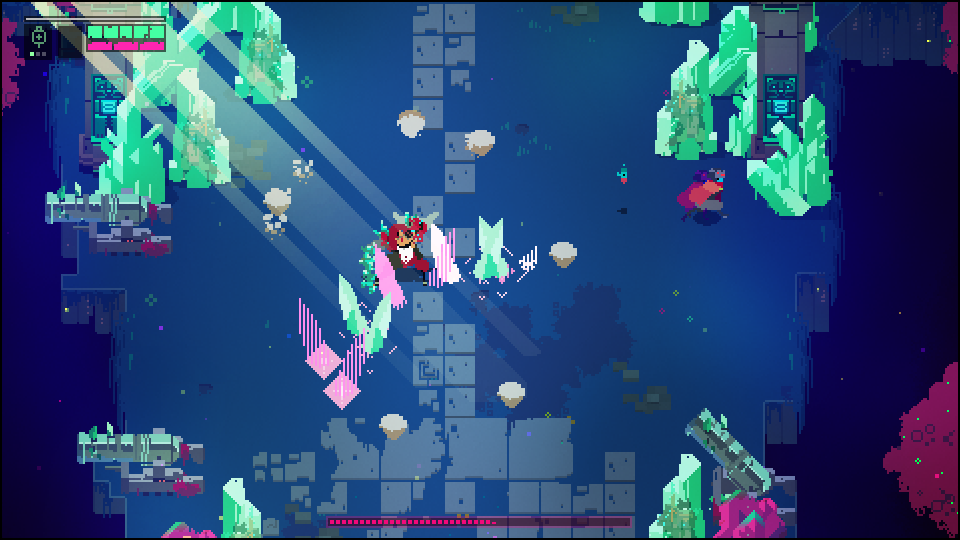hanged_crys: (322, 323, 371, 409), (469, 212, 522, 291), (355, 284, 403, 371), (296, 299, 343, 381), (422, 215, 468, 296)
hanged_man: (357, 204, 439, 297)
player: (688, 161, 731, 227)
